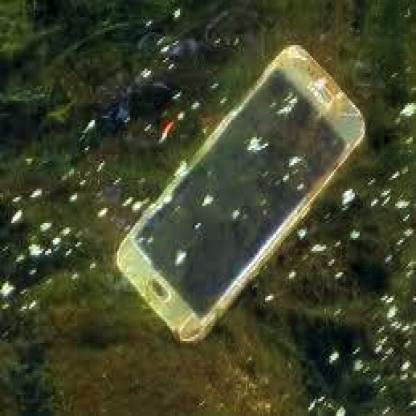cellphone: (117, 43, 366, 347)
